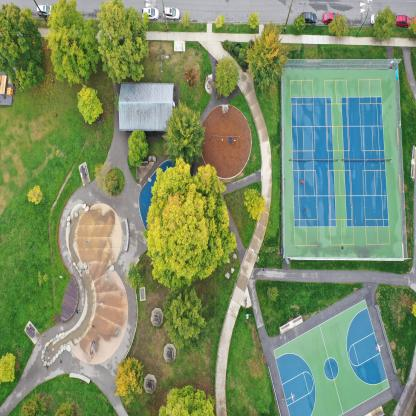Coniferous Tree: (246, 24, 287, 96), (166, 102, 204, 166), (109, 358, 149, 407), (95, 161, 119, 192), (24, 386, 47, 416), (56, 393, 77, 416)
Deciduous Tree: (146, 165, 236, 286), (96, 0, 146, 84), (156, 291, 214, 354), (51, 2, 93, 89), (0, 0, 43, 84), (158, 379, 220, 416), (215, 53, 242, 104), (242, 185, 267, 231), (124, 125, 150, 165), (75, 86, 103, 123), (0, 352, 17, 390), (26, 184, 44, 205)
